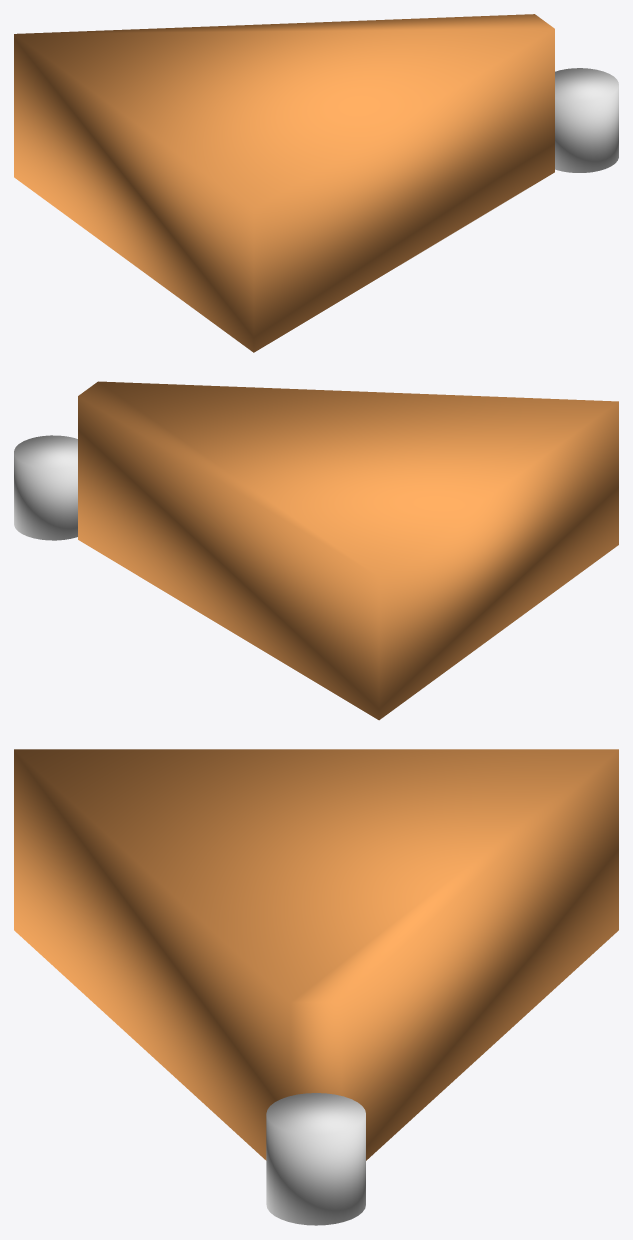
The model's file is NOT.glb.
3 views of the same model, one above another, from view 1: azimuth 30°, elevation 25°; view 2: azimuth 150°, elevation 25°; view 3: azimuth 270°, elevation 25° (orthographic). The views are drawn at different scales.
Visible parts, largest first — view 1: 1, Cot1; view 2: 1, Cot1; view 3: 1, Cot1.
Boxes of the visible parts, x1,y1,x2,y2 form: 1: (14, 14, 554, 352); Cot1: (555, 68, 618, 172); 1: (78, 381, 618, 720); Cot1: (14, 435, 77, 540); 1: (14, 749, 618, 1160); Cot1: (266, 1093, 365, 1225).
Bounding box in the file's own units: 3.5 × 1 × 3.03.
